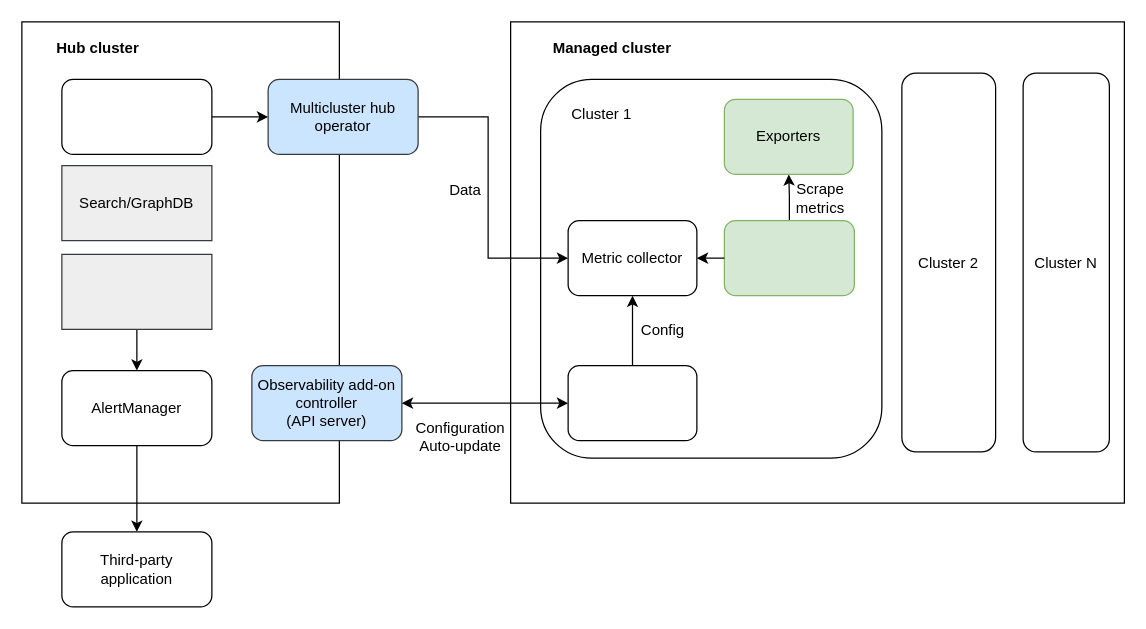
Some shapes in this 1146 by 629 pixel diagram are drawn without their labels. The box of each missing label's shape, as (x1, y1, x2, y2) in pixels:
Endpoint metric operator: (567, 364, 697, 441)
Grafana: (61, 78, 212, 154)
Object storage: (61, 253, 212, 329)
Prometheus: (723, 219, 854, 296)
